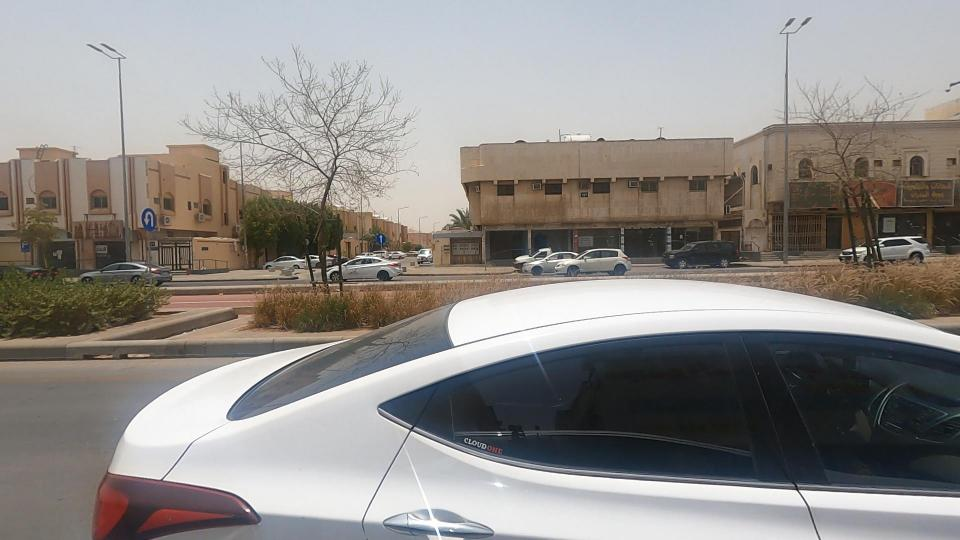BAD_BILLBOARD: (825, 145, 960, 239), (38, 197, 154, 258), (760, 166, 867, 217)
